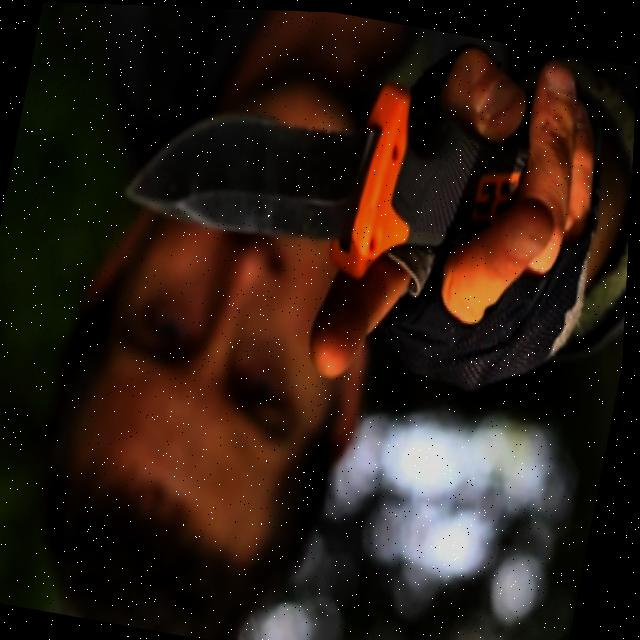knife: (115, 35, 542, 300)
